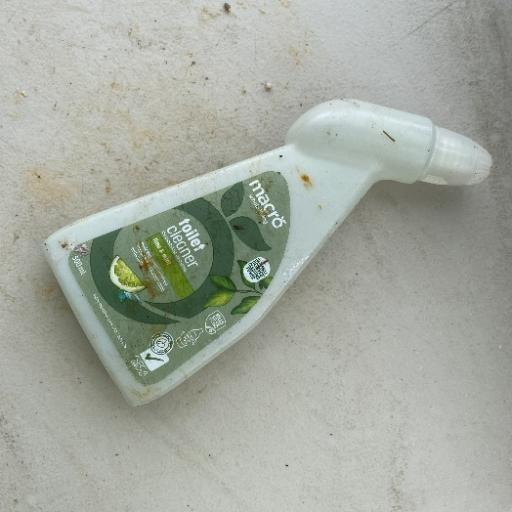Plastic: (42, 95, 493, 408)
